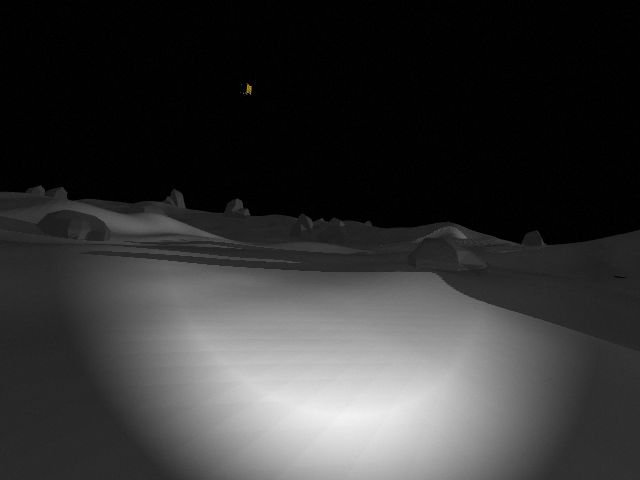cubesat: (234, 80, 254, 98)
